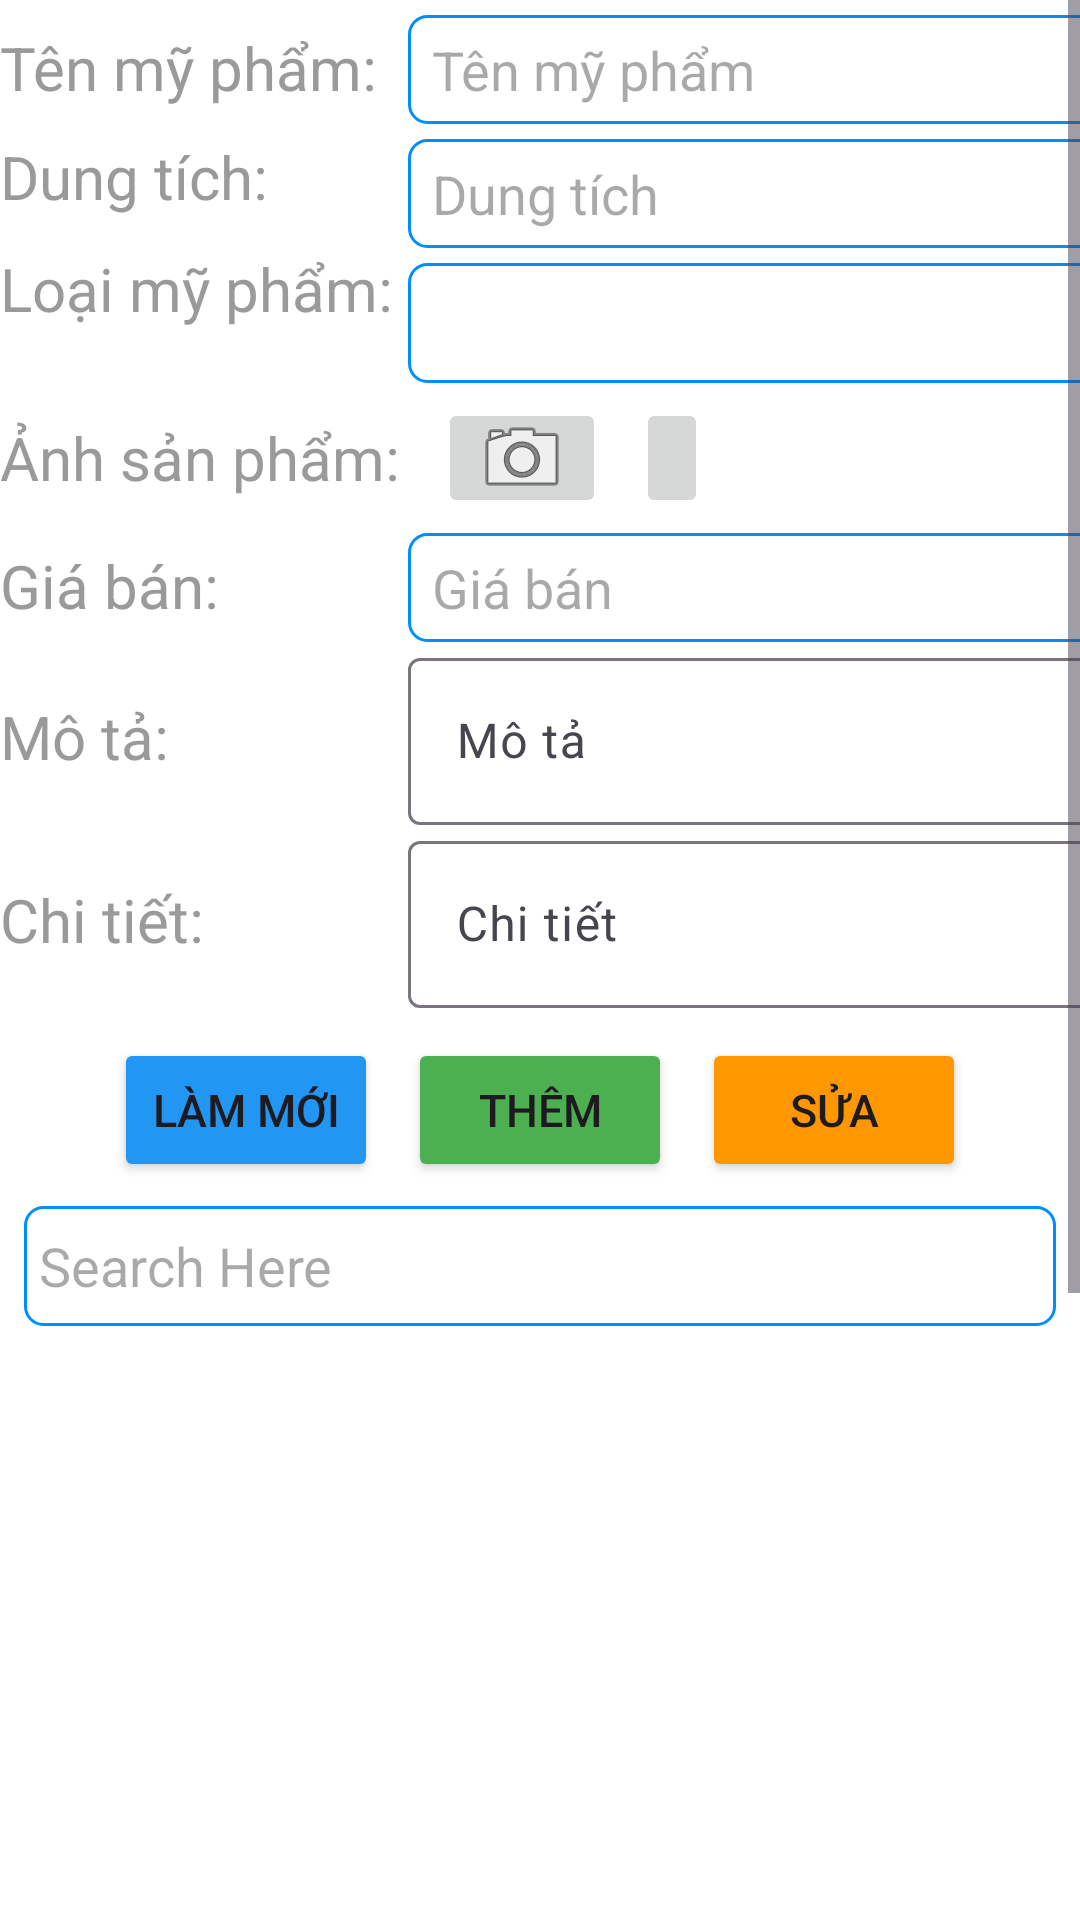

Where to tap for icons on this 1080×1920 app screen, as (x,y):
camera: (522,458)
